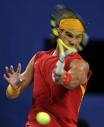tennis ball: (33, 107, 53, 127)
